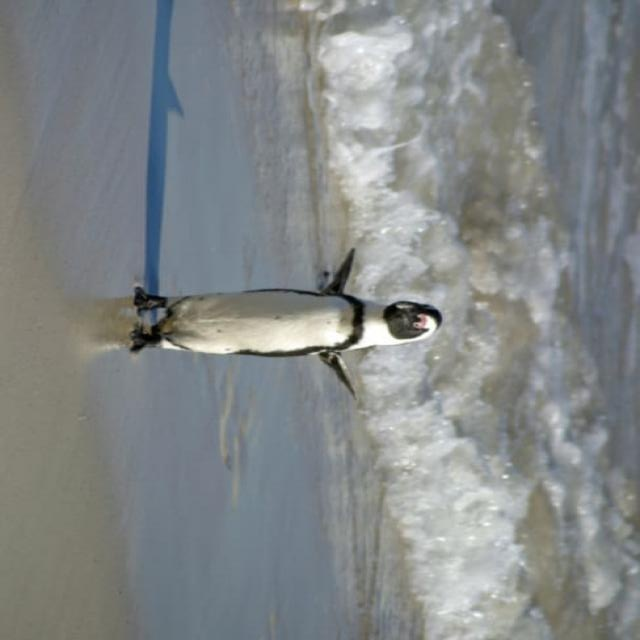penguin: (129, 248, 443, 402)
